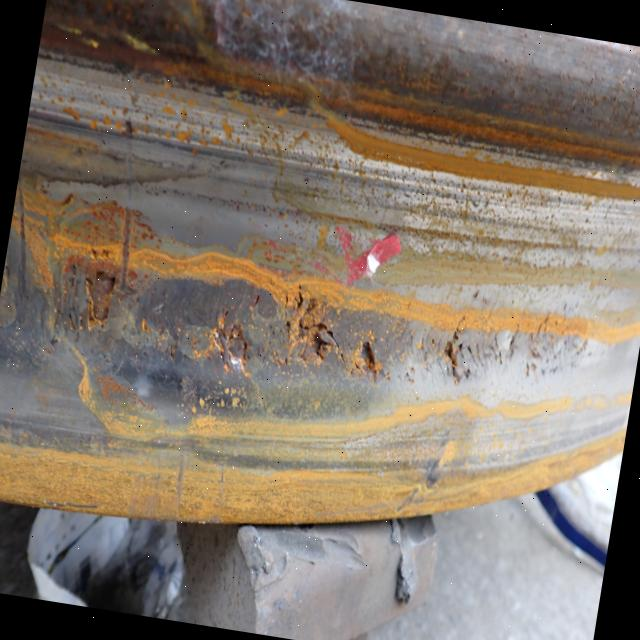Peeling: (274, 282, 346, 372), (86, 268, 120, 333), (441, 334, 468, 393), (226, 323, 255, 370), (353, 340, 382, 383)
